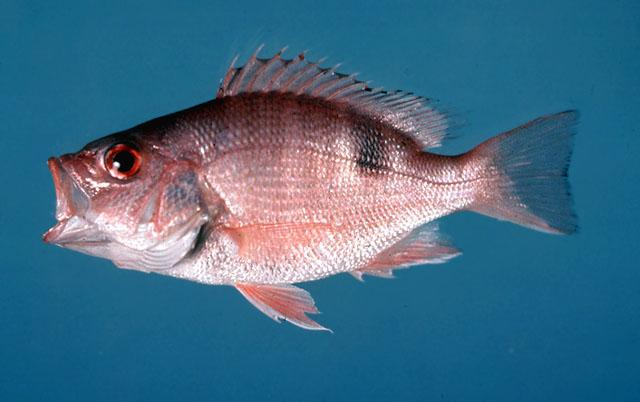Mulut: (10, 134, 122, 271)
Sirip Anal: (346, 216, 474, 296)
Sirip Dada: (208, 213, 360, 266)
Sirip Ekor: (456, 99, 616, 259)
Sirip Perut: (230, 274, 340, 344)
Sirip Punggung: (209, 36, 469, 164)
